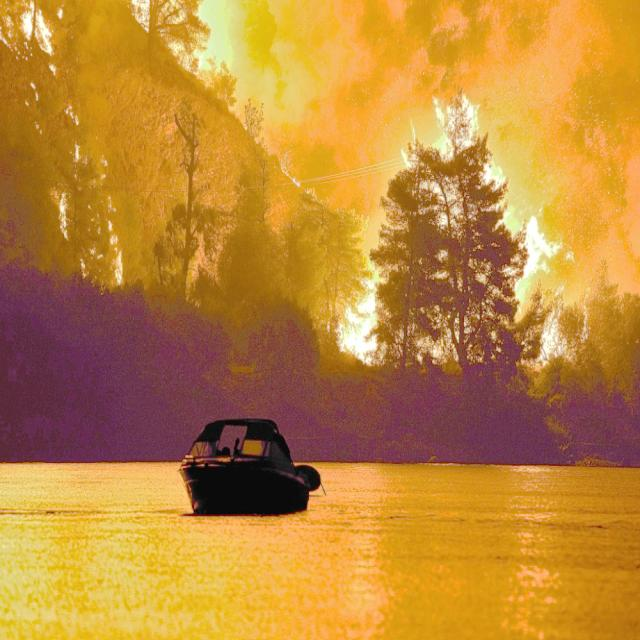api: (335, 281, 387, 371), (518, 205, 561, 297), (430, 90, 488, 145), (21, 1, 57, 65), (54, 190, 84, 248), (104, 225, 127, 288)
